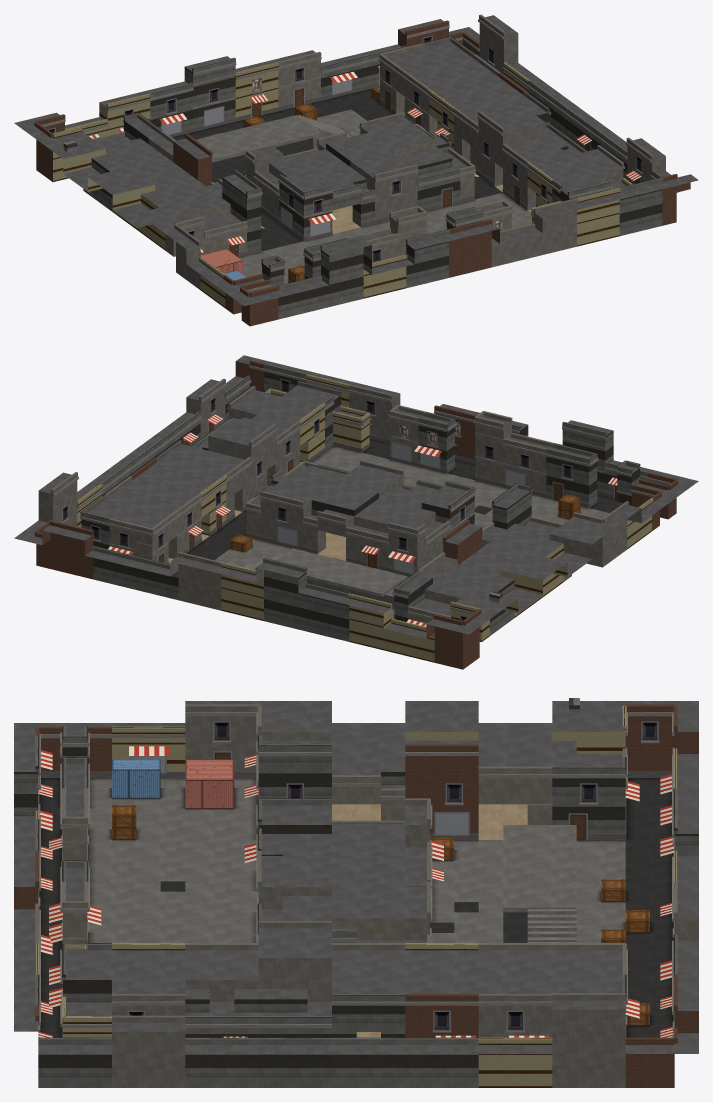
File: zombie_reststop.gltf
3 renders of one model, top to bottom at view 1: azimuth 30°, elevation 25°; view 2: azimuth 150°, elevation 25°; view 3: azimuth 270°, elevation 25°, orthographic. The views are drawn at different scales.
Visible parts, largest first — view 1: Quarter, Detail, Windows, Shadows, Steps; view 2: Quarter, Detail, Windows, Shadows; view 3: Quarter, Detail, Shadows, Windows, Steps.
Boxes of the visible parts, box(x1,y1,x2,y2) form: Quarter: box(14, 15, 698, 326); Detail: box(34, 14, 678, 318); Windows: box(48, 35, 642, 262); Shadows: box(172, 89, 526, 257); Steps: box(298, 115, 351, 149); Quarter: box(14, 355, 698, 669); Detail: box(34, 360, 678, 655); Windows: box(62, 379, 573, 620); Shadows: box(186, 439, 616, 577); Quarter: box(14, 701, 698, 1087); Detail: box(35, 698, 677, 1087); Shadows: box(39, 778, 673, 1037); Windows: box(38, 721, 674, 1032); Steps: box(527, 909, 576, 942).
Size of the model in its own units: 64 by 8.5 by 56.
26 materials, 25 textured.
